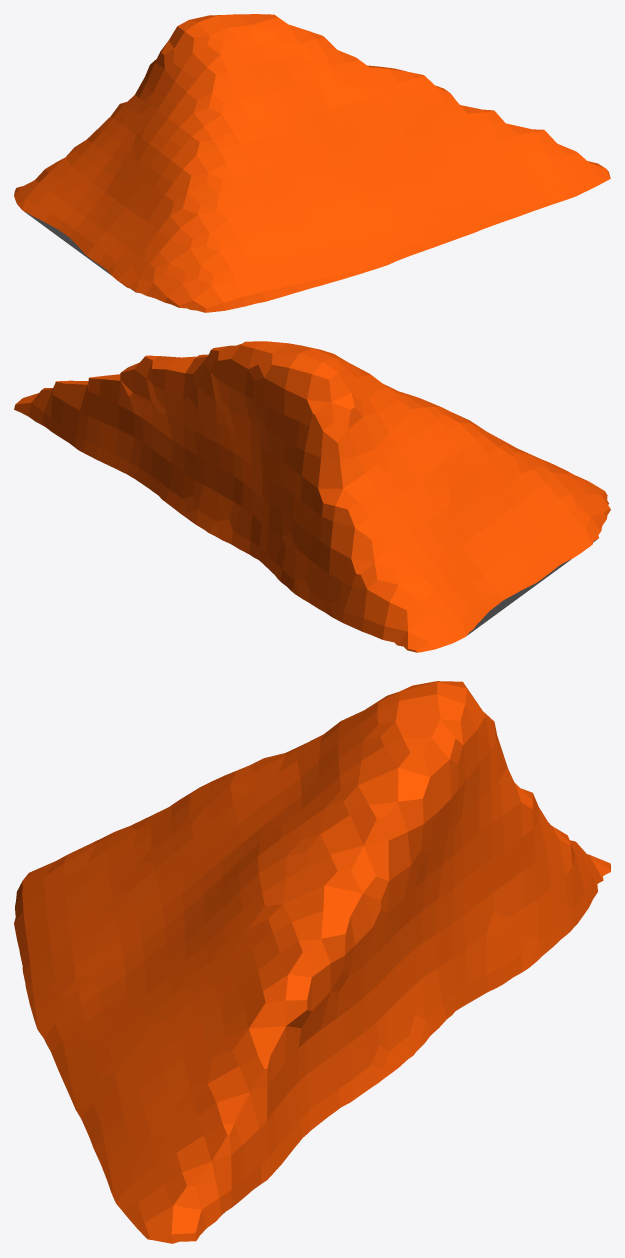
3 views of the same model, one above another, from view 1: azimuth 30°, elevation 25°; view 2: azimuth 150°, elevation 25°; view 3: azimuth 270°, elevation 25° (orthographic). The views are drawn at different scales.
Visible parts, largest first — view 1: 19.021; view 2: 19.021; view 3: 19.021.
Part boxes in pixels (x1=…): 19.021: x1=14, y1=14, x2=610, y2=312; 19.021: x1=14, y1=341, x2=610, y2=652; 19.021: x1=14, y1=681, x2=610, y2=1243.
Size of the model in its own units: 12.26 by 4.27 by 7.87.
